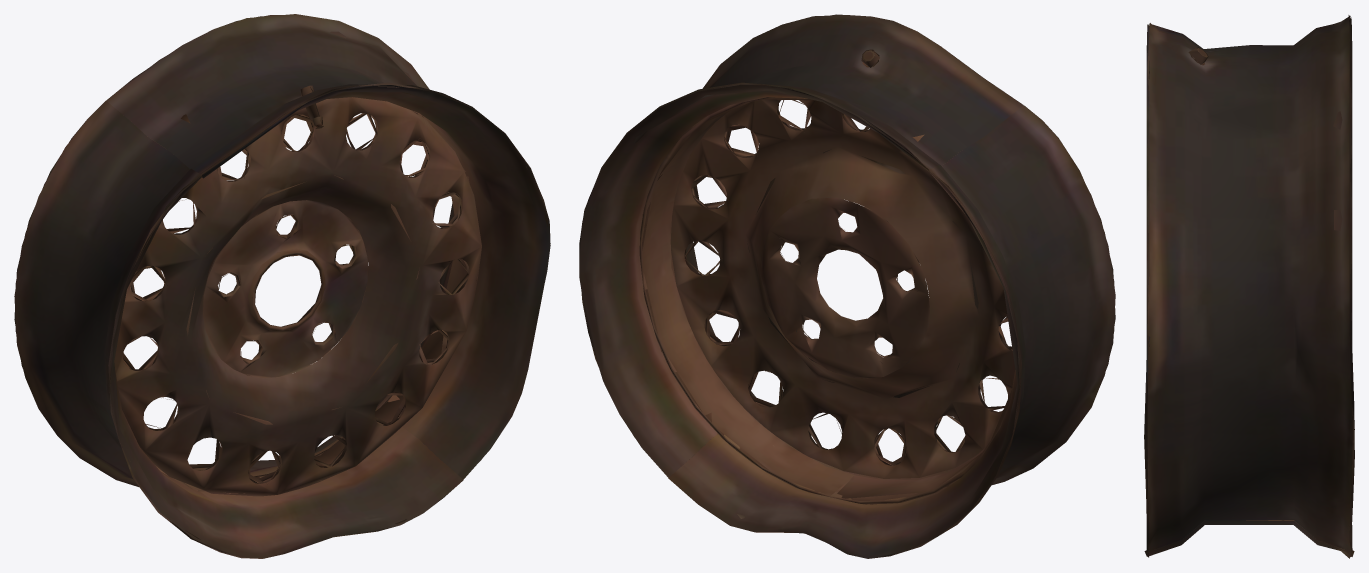
The model's file is rusted_wheel_rim_01.glb.
3 renders of one model, left to right at view 1: azimuth 30°, elevation 25°; view 2: azimuth 150°, elevation 25°; view 3: azimuth 270°, elevation 25°, orthographic. The views are drawn at different scales.
Visible parts, largest first — view 1: rusted_wheel_rim_01; view 2: rusted_wheel_rim_01; view 3: rusted_wheel_rim_01.
Boxes of the visible parts, x1,y1,x2,y2 form: rusted_wheel_rim_01: (14,14,550,558); rusted_wheel_rim_01: (579,14,1115,558); rusted_wheel_rim_01: (1144,15,1354,558).
Size of the model in its own units: 0.4015 by 0.3944 by 0.1547.
1 material, 1 textured.
